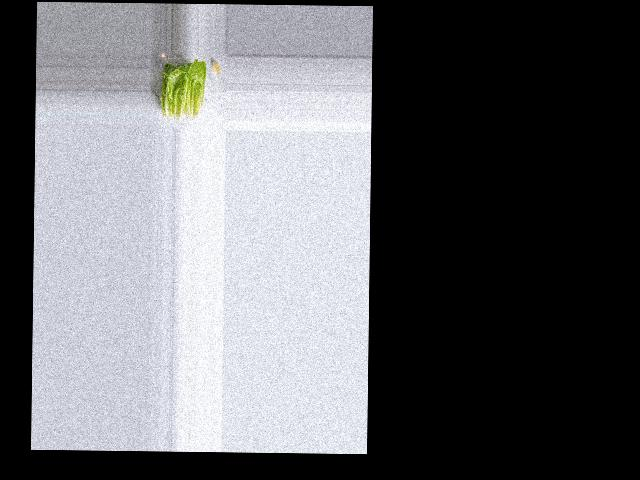lettuce: (158, 58, 208, 120)
